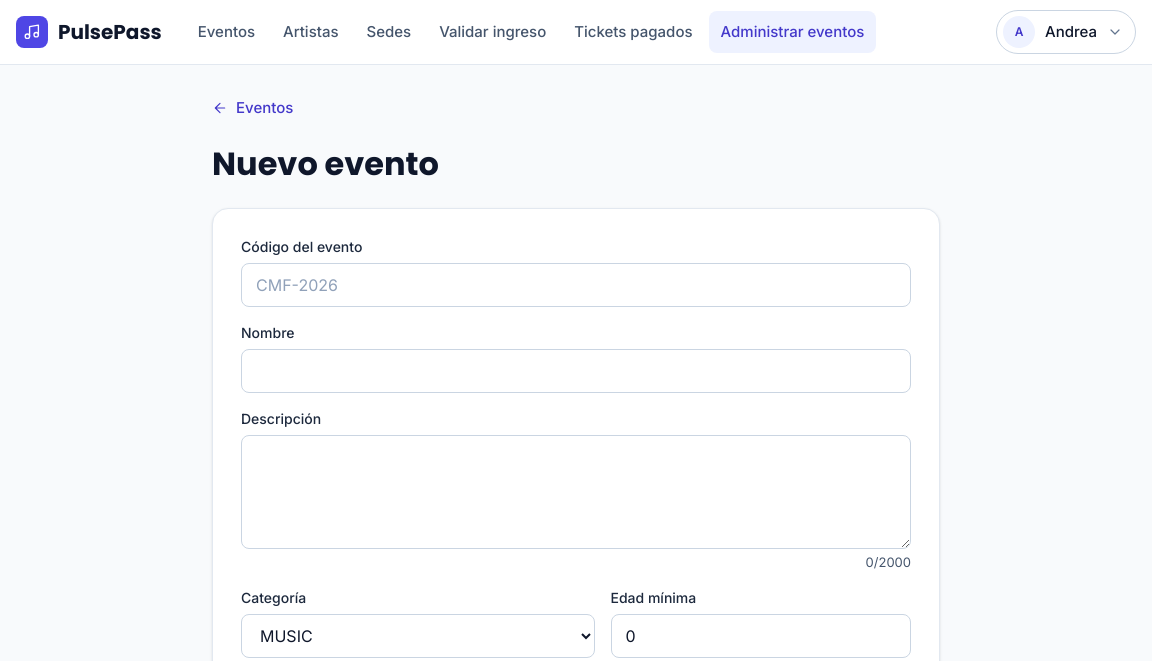
it: Administración de eventos (ADMIN) › TEST-FE-ADM-003: un 400 con details marca el campo correspondiente
This screenshot has width=1152, height=661.
In the field labelled "Código del evento": {"x": 576, "y": 284} [241,262,911,306], type "jzz-2026"
In the field labelled "Nombre": {"x": 576, "y": 370} [241,348,911,392], type "Jazz al Parque"
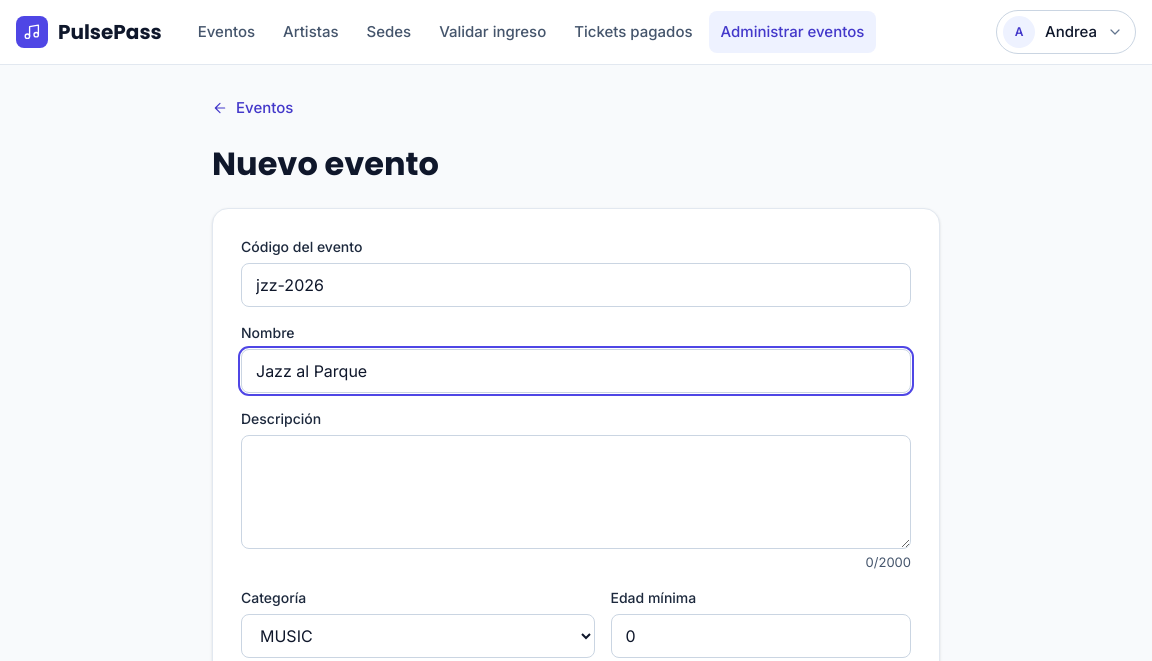
Select "CULTURE" in the dropdown labelled "Categoría": {"x": 418, "y": 636} [241,614,594,658]
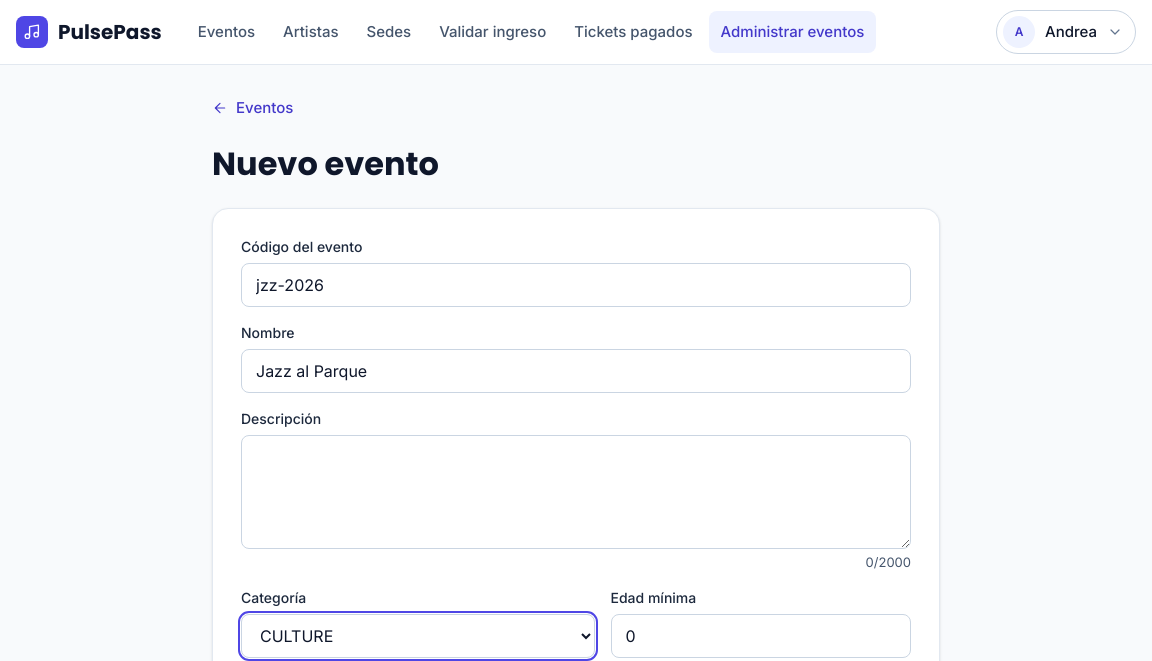
Replace the text in the number field labelled "Edad mínima" with "18": {"x": 761, "y": 636} [610,614,911,658]
(page scrolled)
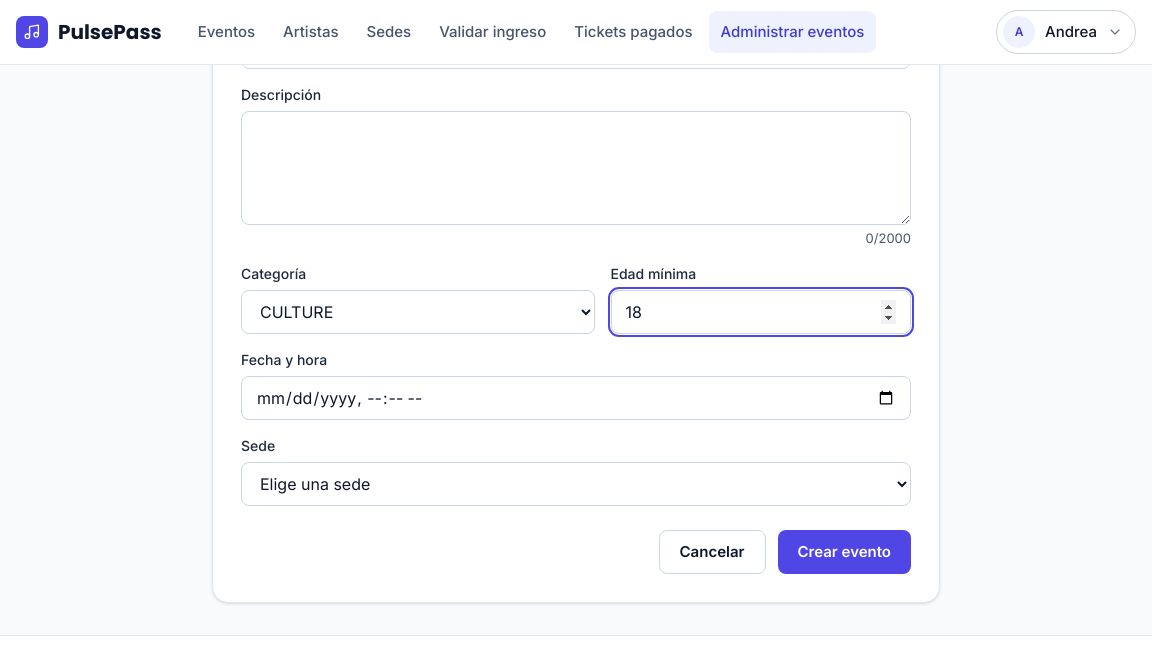
In the field labelled "Fecha y hora": {"x": 576, "y": 398} [241,376,911,420], type "2026-12-20T20:00"
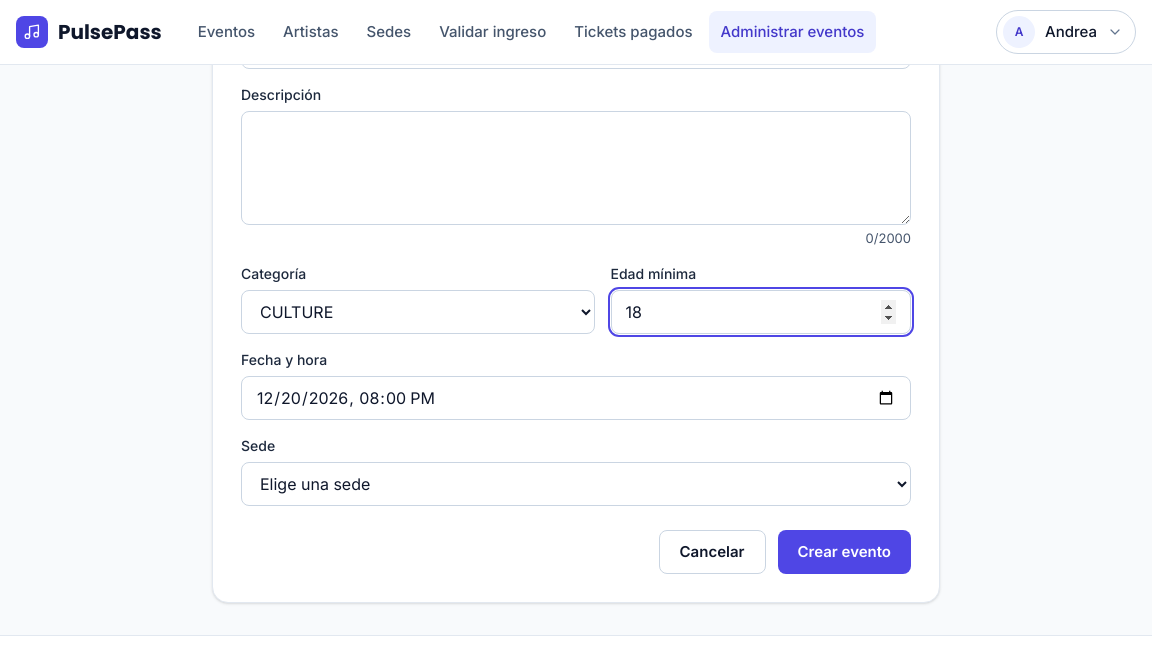
Select "Marina Convention Center (VEN-SMR-01)" in the dropdown labelled "Sede": {"x": 576, "y": 484} [241,462,911,506]
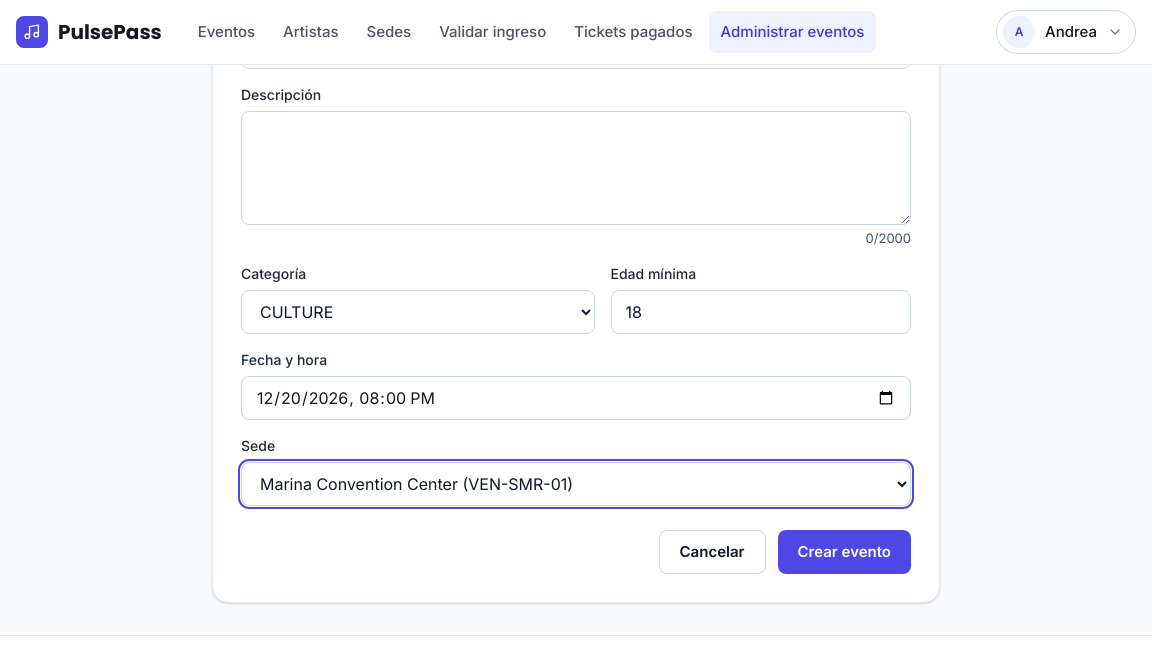
Click the button "Crear evento": {"x": 844, "y": 552} [778,530,911,574]
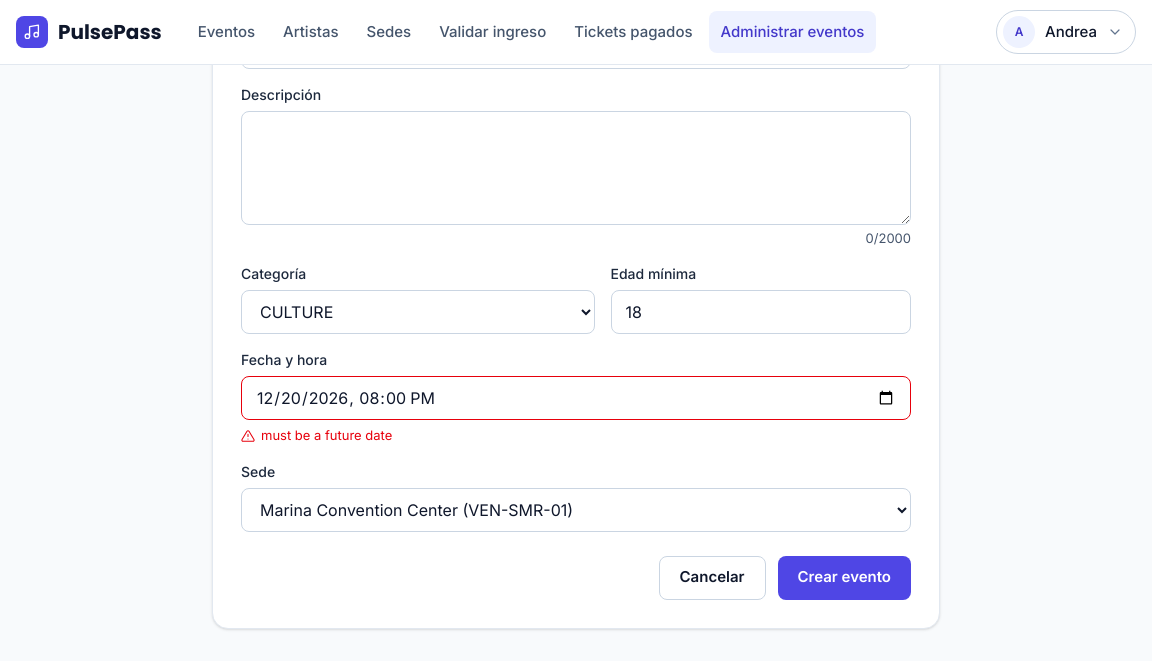
Expected: the text "must be a future date" is shown, [241,427,392,443]
